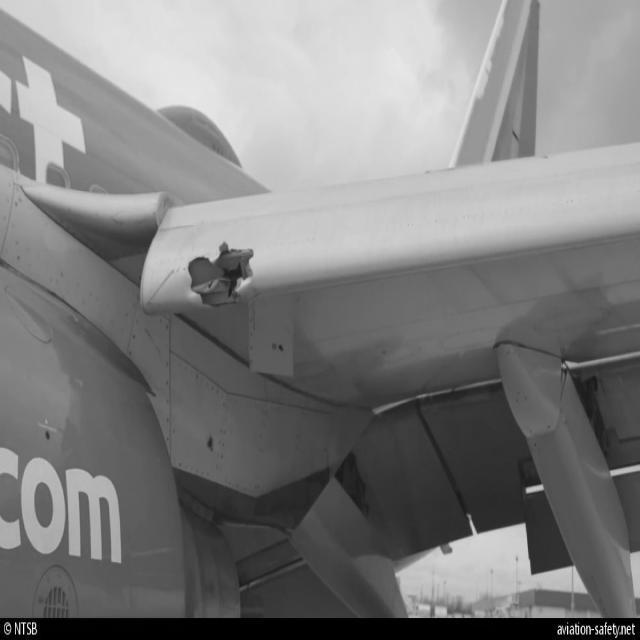crack: (190, 243, 258, 307)
